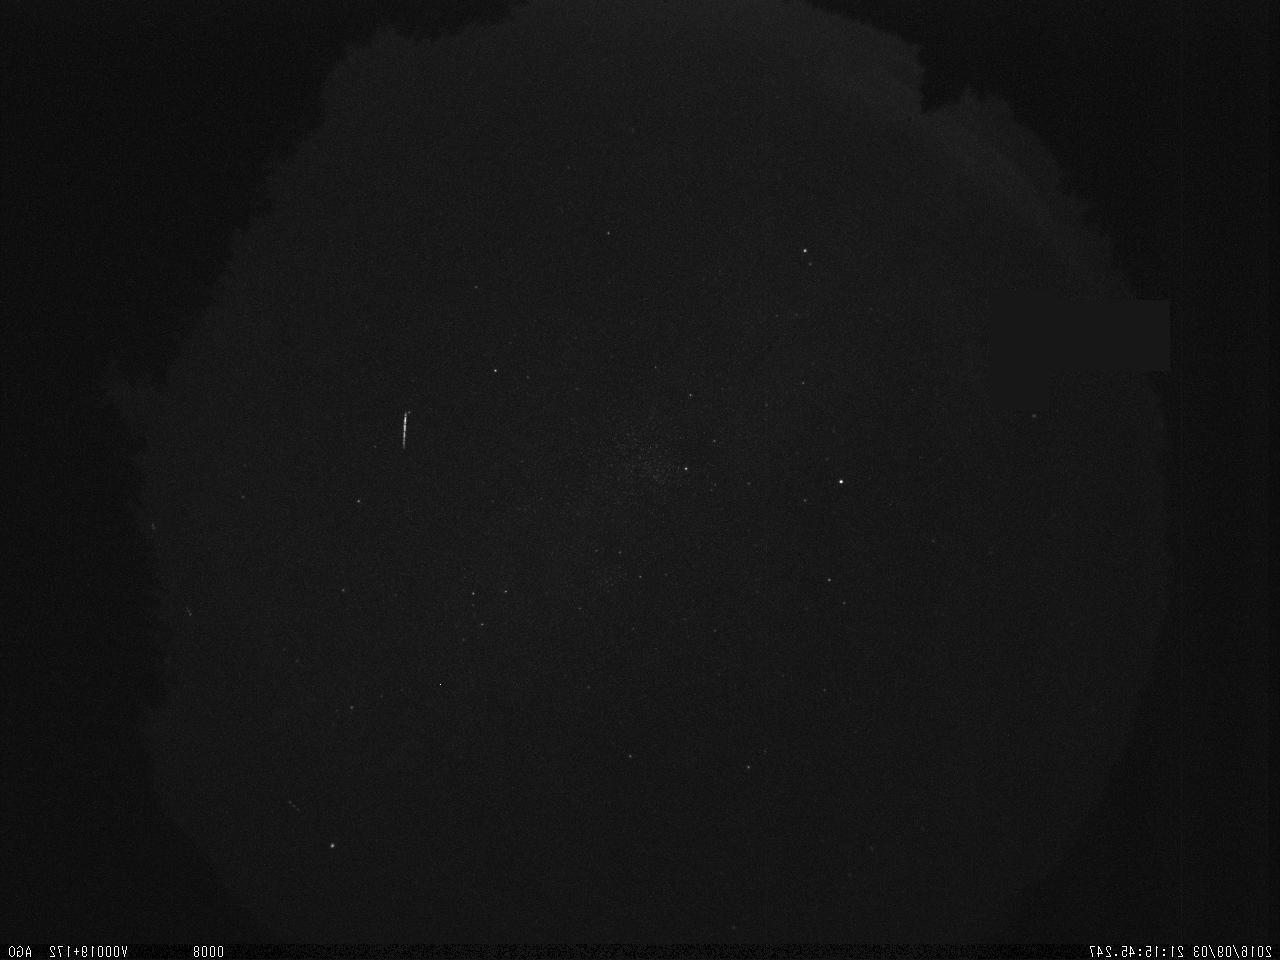meteor: (342, 398, 442, 465)
